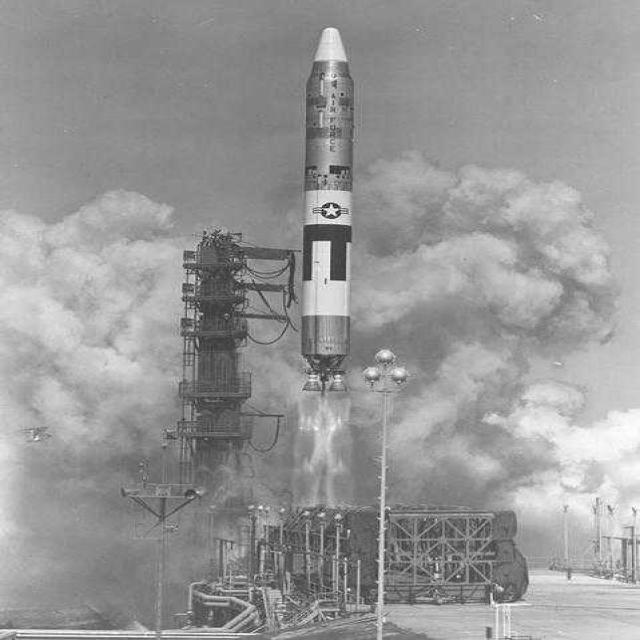missile: (296, 24, 356, 393)
